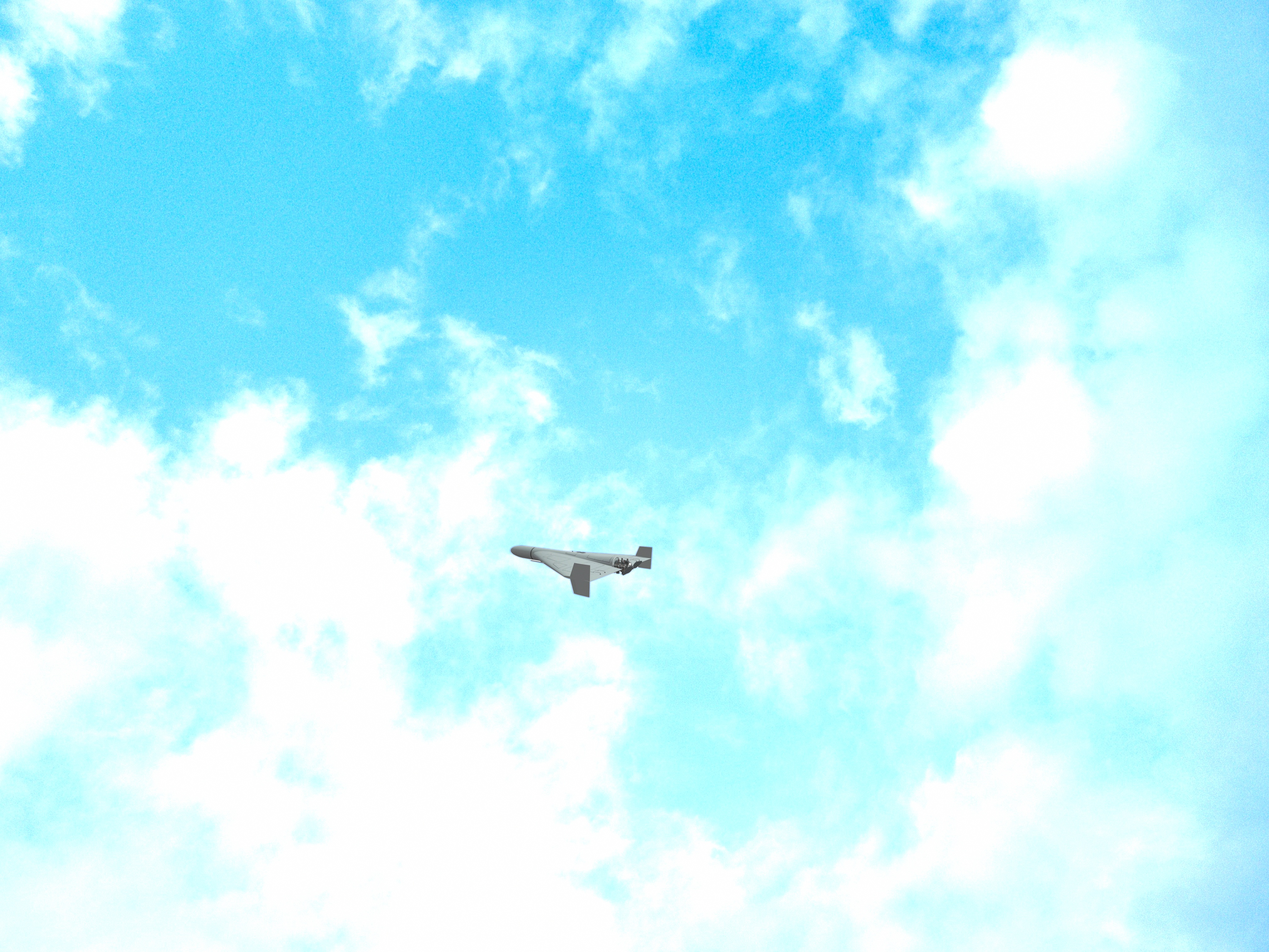shahed: (508, 541, 655, 600)
